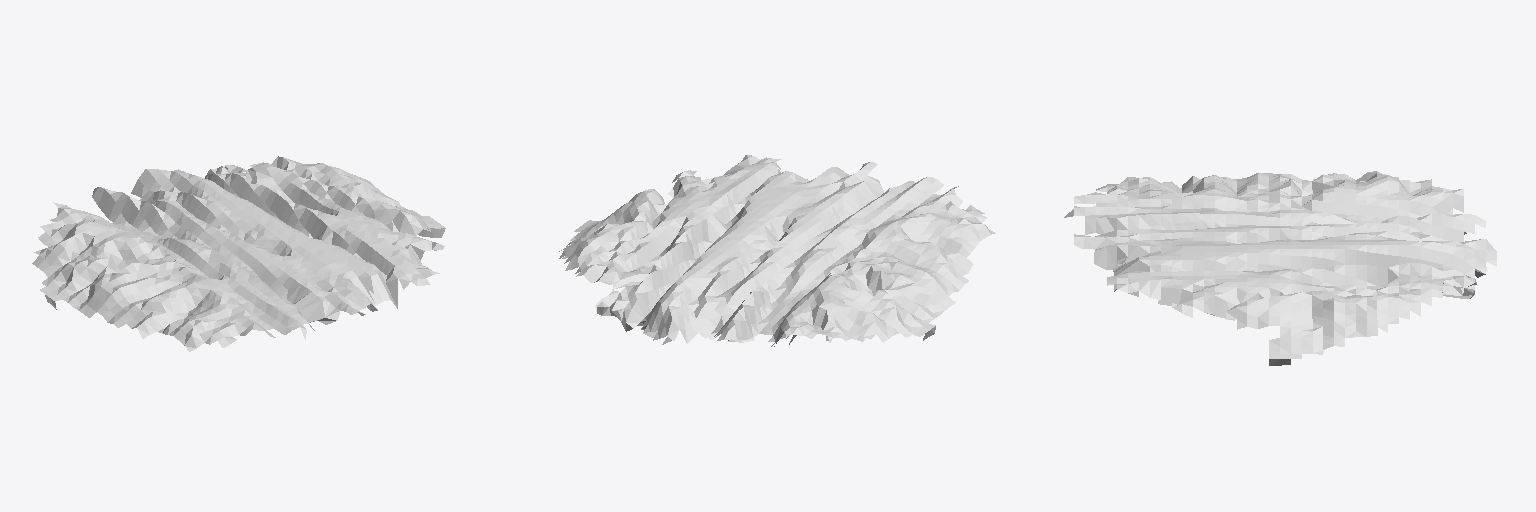
File: mixture_on-agate_mortar.obj
The picture shows the model from 3 angles: view 1: azimuth 30°, elevation 25°; view 2: azimuth 150°, elevation 25°; view 3: azimuth 270°, elevation 25°; orthographic projection.
Visible parts, largest first — view 1: Plane001; view 2: Plane001; view 3: Plane001.
Part boxes in pixels (x1,y1,x2,y2): Plane001: (32,156,445,351); Plane001: (559,155,995,346); Plane001: (1064,171,1496,365).
Size of the model in its own units: 43.54 by 4.94 by 44.32.